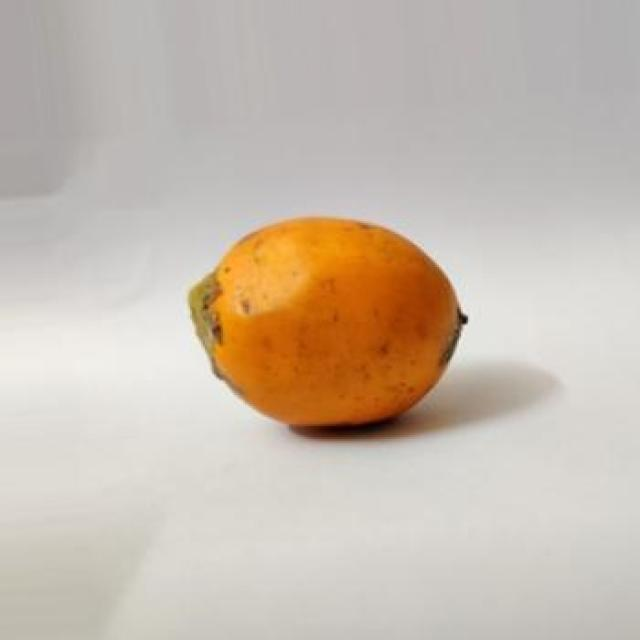good: (188, 218, 468, 432)
